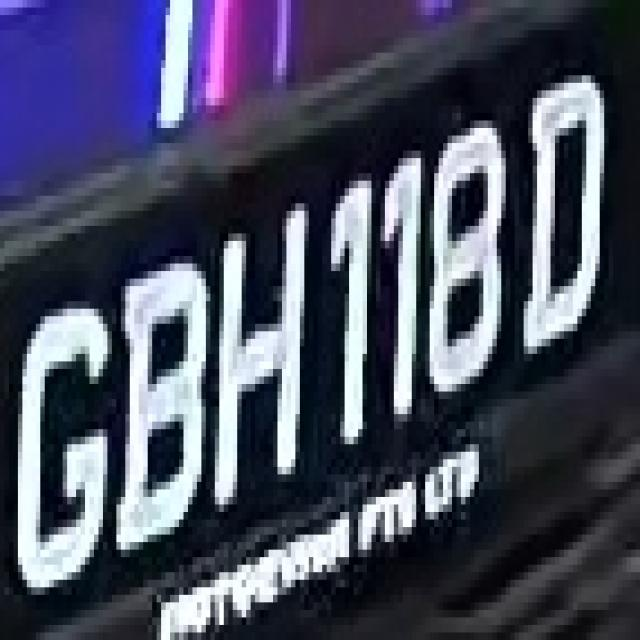1: (304, 173, 390, 505), (367, 128, 434, 474)
8: (425, 113, 519, 407)
B: (112, 249, 215, 557)
D: (510, 45, 613, 369)
G: (18, 248, 112, 610)
H: (210, 188, 318, 504)
